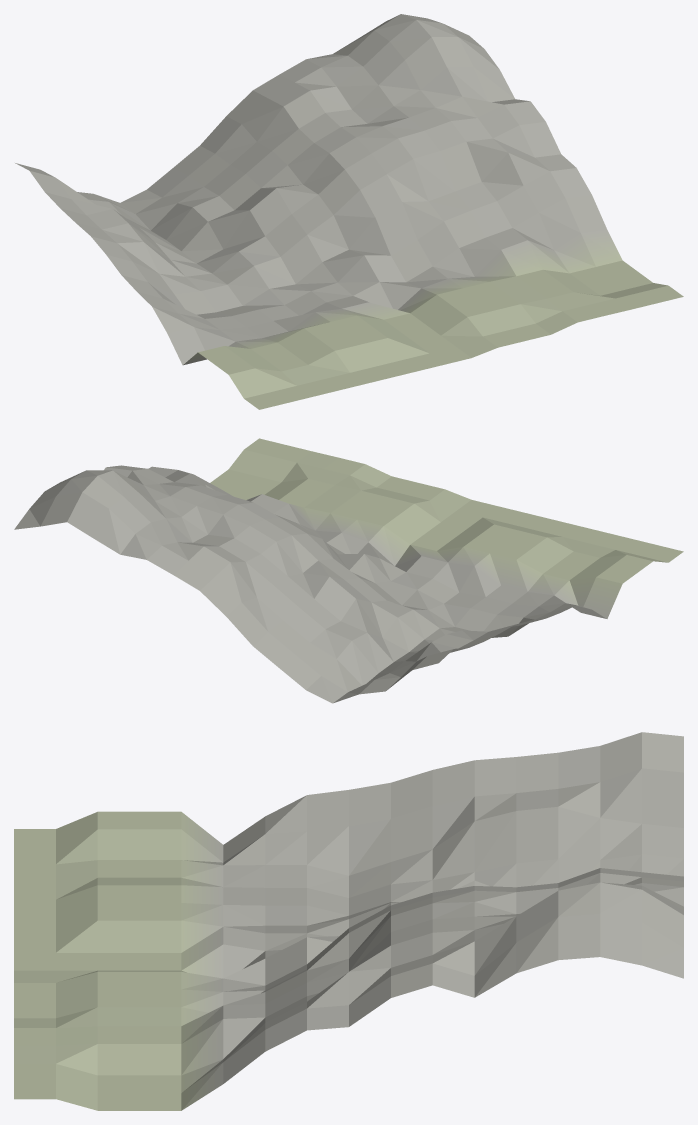
3 views of the same model, one above another, from view 1: azimuth 30°, elevation 25°; view 2: azimuth 150°, elevation 25°; view 3: azimuth 270°, elevation 25° (orthographic). The views are drawn at different scales.
Size of the model in its own units: 32 by 11.08 by 32.
